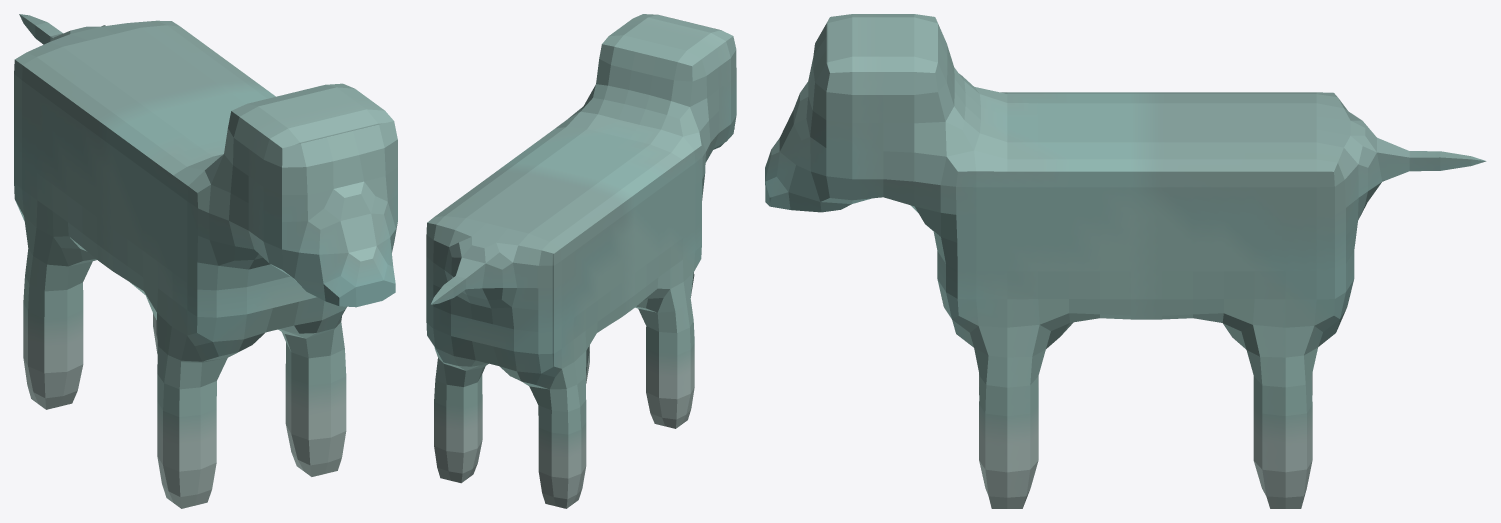
Rendered from unicorn.glb.
The picture shows the model from 3 angles, left to right: view 1: azimuth 30°, elevation 25°; view 2: azimuth 150°, elevation 25°; view 3: azimuth 270°, elevation 25°; orthographic projection. The views are drawn at different scales.
Parts seen in each view (by area): view 1: geometry_0; view 2: geometry_0; view 3: geometry_0.
Boxes of the visible parts, left/top/right/bottom form: geometry_0: left=14, top=14, right=397, bottom=508; geometry_0: left=426, top=14, right=736, bottom=508; geometry_0: left=765, top=14, right=1486, bottom=508.
Size of the model in its own units: 0.4437 by 1 by 1.51.
1 material, 1 textured.
